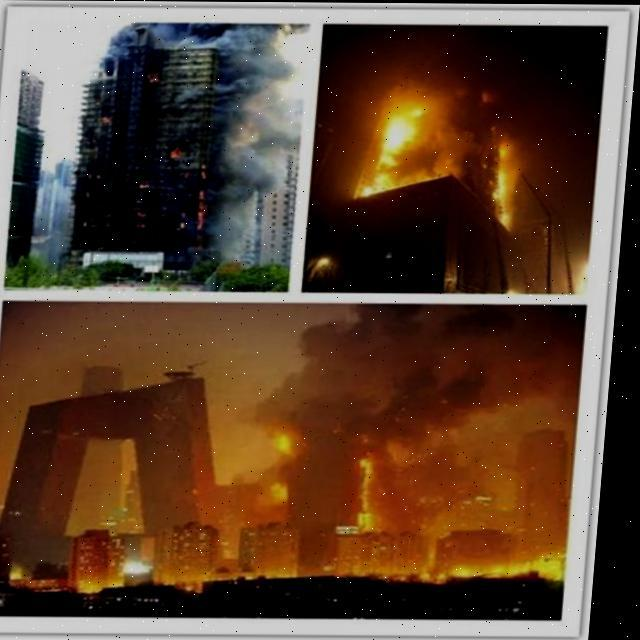Fire: (353, 83, 530, 225), (354, 446, 397, 534), (272, 422, 304, 503), (196, 166, 213, 232), (166, 142, 186, 162), (143, 67, 161, 86), (134, 208, 149, 230), (137, 174, 154, 188), (100, 115, 114, 126)
